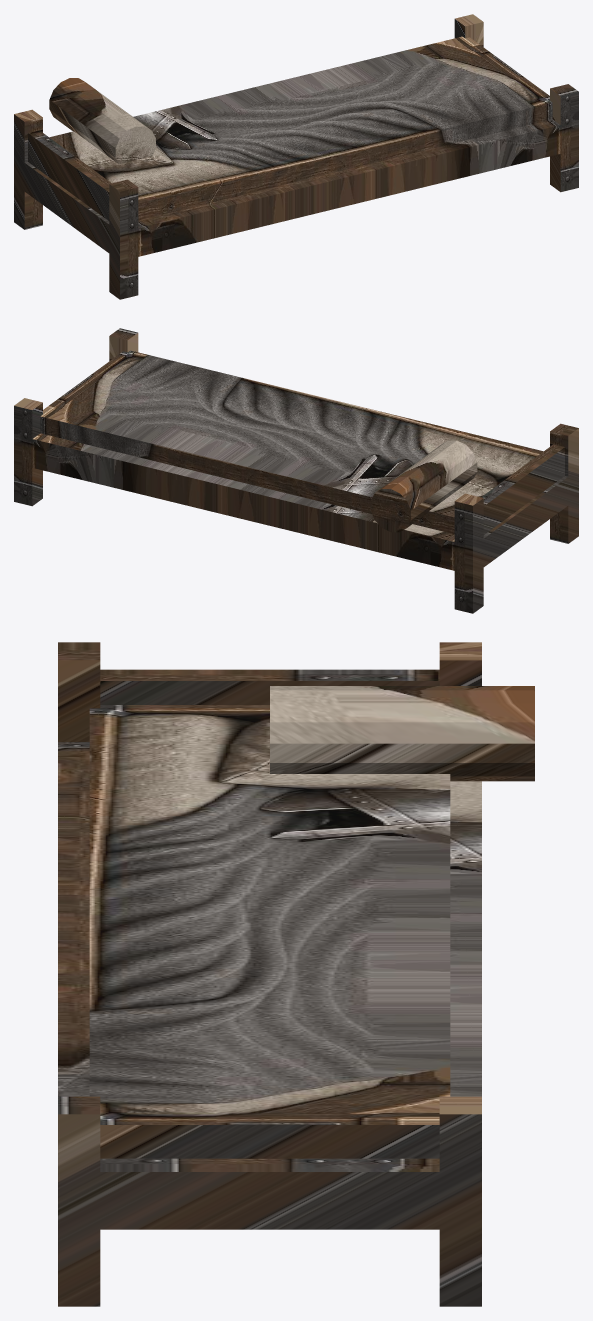
Rendered from v3-guard-post-cot.glb.
3 renders of one model, top to bottom at view 1: azimuth 30°, elevation 25°; view 2: azimuth 150°, elevation 25°; view 3: azimuth 270°, elevation 25°, orthographic. The views are drawn at different scales.
Visible parts, largest first — view 1: v3-guard-post-cot; view 2: v3-guard-post-cot; view 3: v3-guard-post-cot.
Part boxes in pixels (x1=…): v3-guard-post-cot: x1=14, y1=14, x2=578, y2=299; v3-guard-post-cot: x1=14, y1=328, x2=578, y2=613; v3-guard-post-cot: x1=58, y1=642, x2=534, y2=1306.
Bounding box in the file's own units: 2 × 0.49 × 0.9.
1 material, 1 textured.
